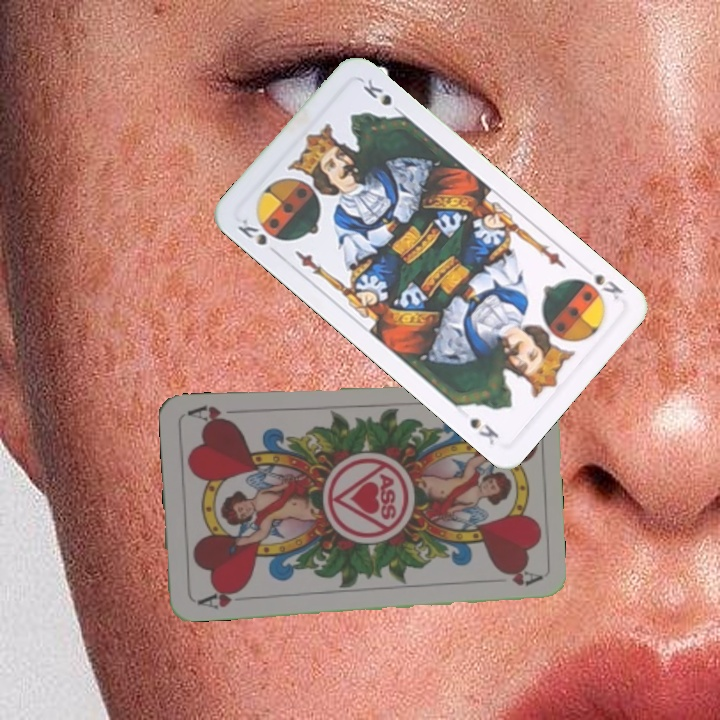HA: (193, 584, 247, 612)
SK: (577, 260, 626, 303), (233, 212, 270, 248)
